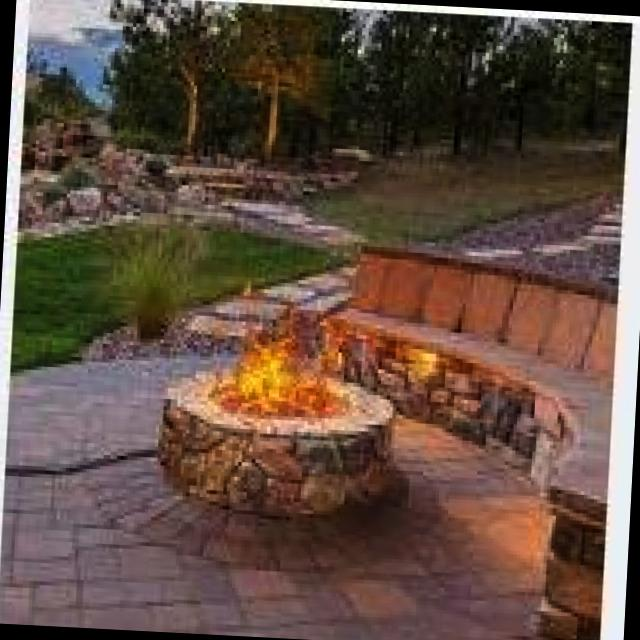Fire_Save: (204, 314, 363, 424)
